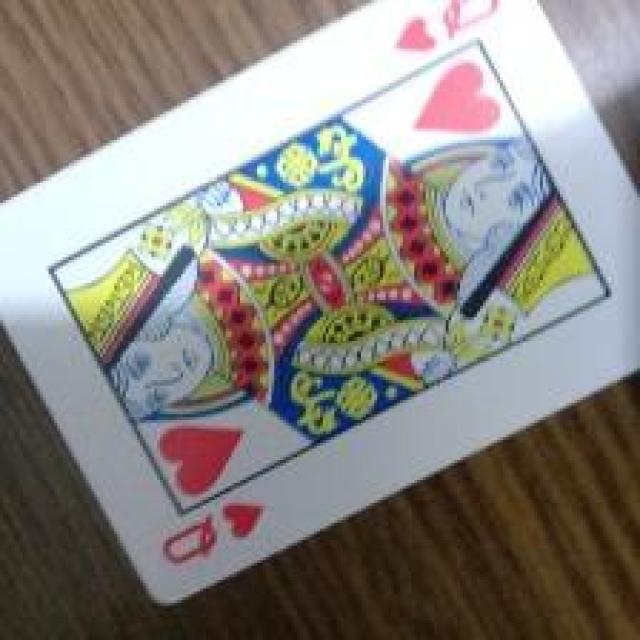Queen of hearts: (3, 0, 640, 610)
